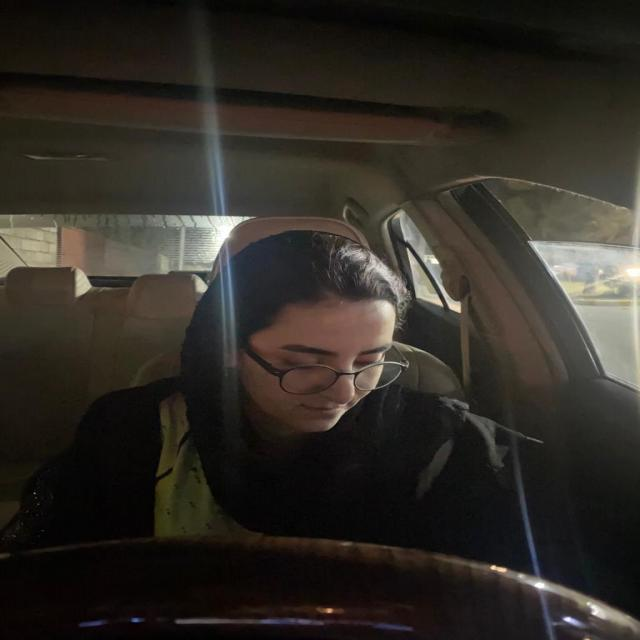person: (200, 227, 423, 447)
